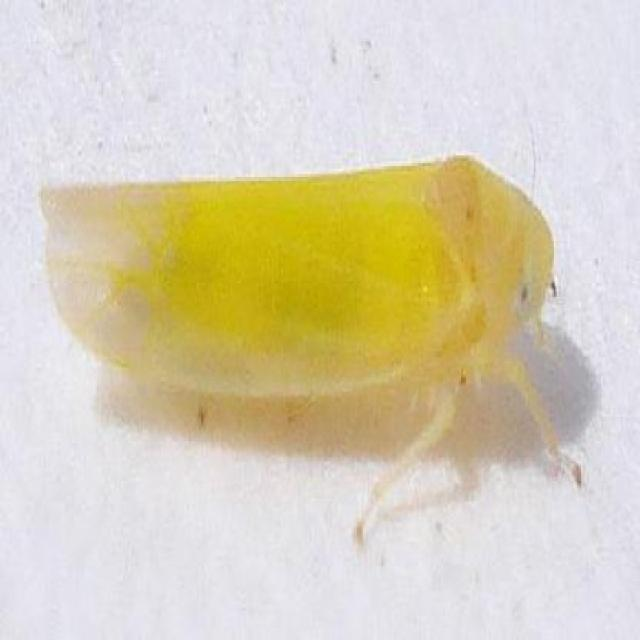green-leafhopper: (41, 172, 576, 470)
